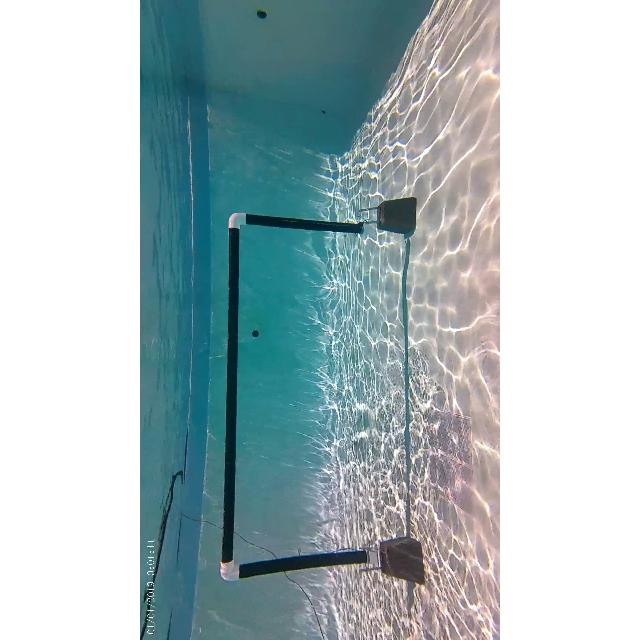prequal gate: (226, 212, 376, 574)
prequal gate leg l: (218, 547, 384, 583)
prequal gate leg r: (224, 212, 380, 238)
